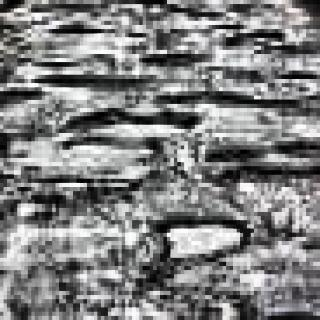pothole: (209, 135, 320, 196), (61, 104, 198, 150), (156, 214, 252, 262), (33, 59, 154, 94), (159, 87, 297, 111), (138, 44, 196, 70), (0, 79, 42, 100), (46, 24, 104, 39), (277, 65, 319, 81)
